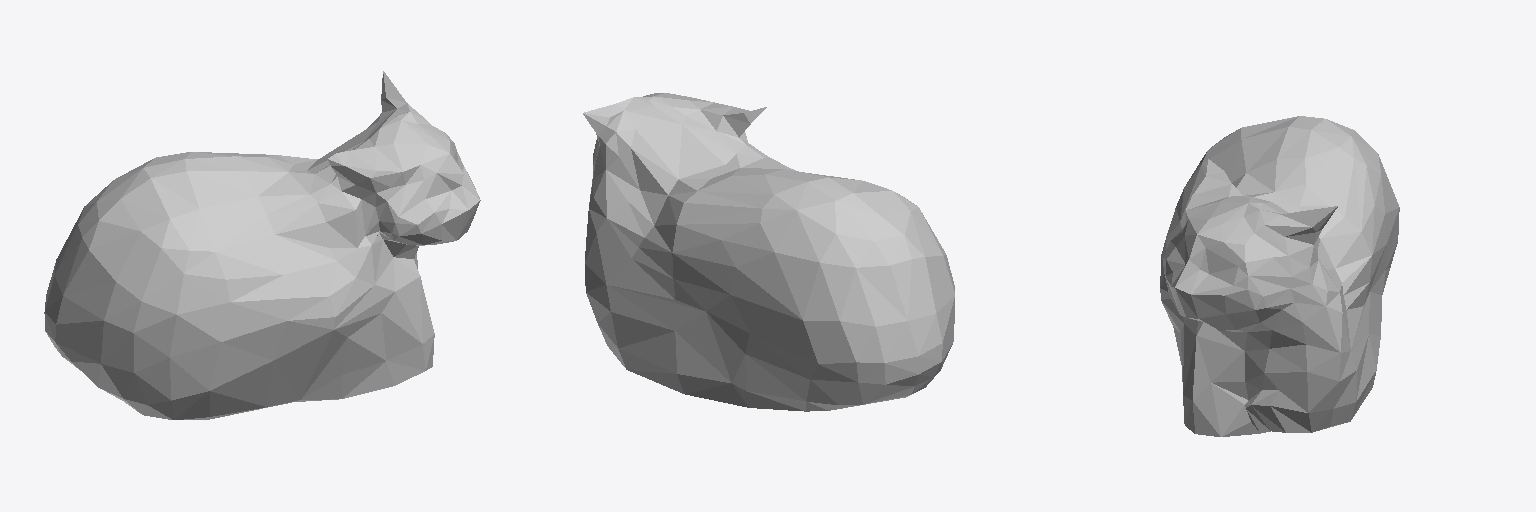
File: maxwell.obj
3 views of the same model, side by side, from view 1: azimuth 30°, elevation 25°; view 2: azimuth 150°, elevation 25°; view 3: azimuth 270°, elevation 25° (orthographic).
Parts seen in each view (by area): view 1: dingus.004; view 2: dingus.004; view 3: dingus.004.
Boxes of the visible parts, x1,y1,x2,y2 form: dingus.004: [44, 71, 480, 419]; dingus.004: [583, 93, 954, 411]; dingus.004: [1160, 116, 1399, 436].
Size of the model in its own units: 29.82 by 19.21 by 16.49.